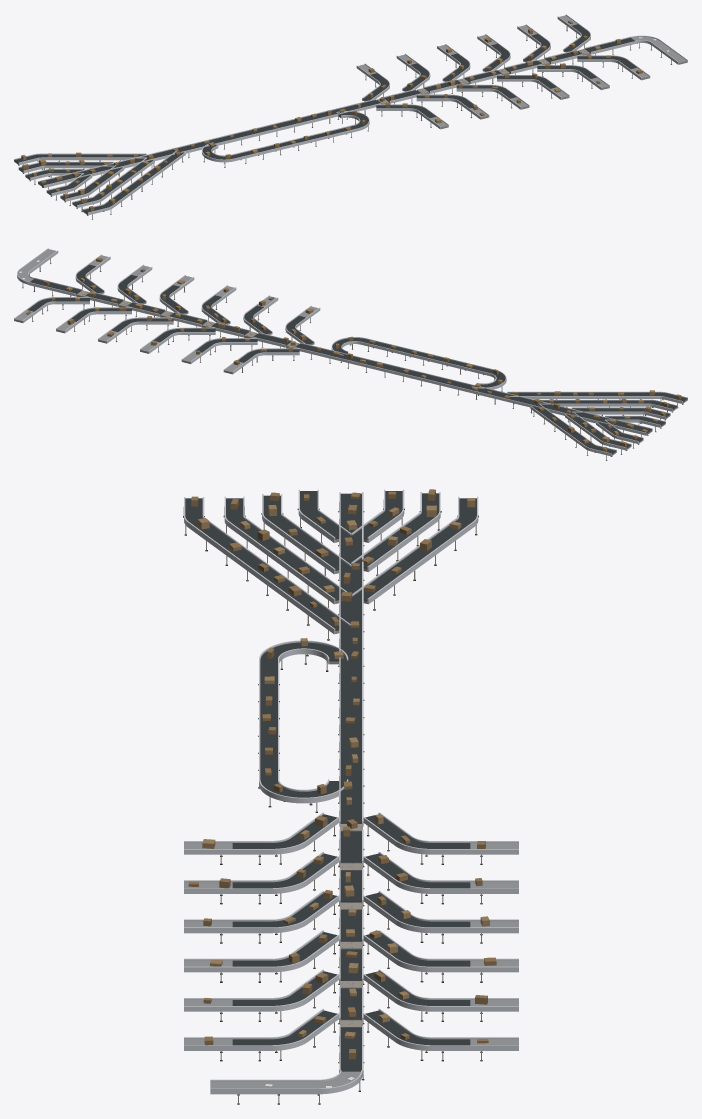
The model's file is Layout_5000CPH_schematico.glb.
The picture shows the model from 3 angles, top to bottom: view 1: azimuth 30°, elevation 25°; view 2: azimuth 150°, elevation 25°; view 3: azimuth 270°, elevation 25°; orthographic projection. The views are drawn at different scales.
Visible parts, largest first — view 1: lay_alu, lay_belt, lay_carton, lay_light, lay_inox, lay_carton2; view 2: lay_alu, lay_belt, lay_carton, lay_light, lay_inox, lay_carton2; view 3: lay_belt, lay_alu, lay_carton, lay_light, lay_carton2, lay_inox.
Part boxes in pixels (x1,y1,x2,y2): lay_alu: (14, 14, 687, 215); lay_belt: (14, 24, 636, 213); lay_carton: (22, 20, 642, 210); lay_light: (358, 15, 686, 127); lay_inox: (14, 26, 687, 218); lay_carton2: (21, 43, 610, 203); lay_alu: (14, 248, 687, 456); lay_belt: (28, 264, 687, 454); lay_carton: (26, 257, 681, 446); lay_light: (14, 249, 318, 372); lay_inox: (14, 259, 687, 460); lay_carton2: (65, 278, 654, 451); lay_belt: (185, 491, 476, 1071); lay_alu: (184, 489, 518, 1094); lay_carton: (188, 489, 496, 1059); lay_light: (184, 843, 518, 1088); lay_carton2: (198, 498, 489, 1038); lay_inox: (183, 499, 481, 1103).
Bounding box in the file's own units: 69.92 × 1.13 × 16.54.
